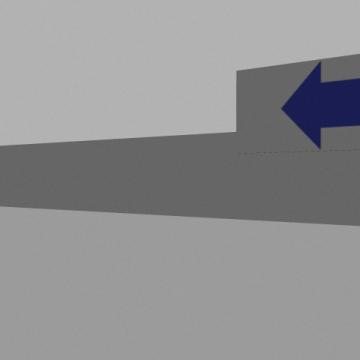blue_left: (281, 62, 359, 148)
